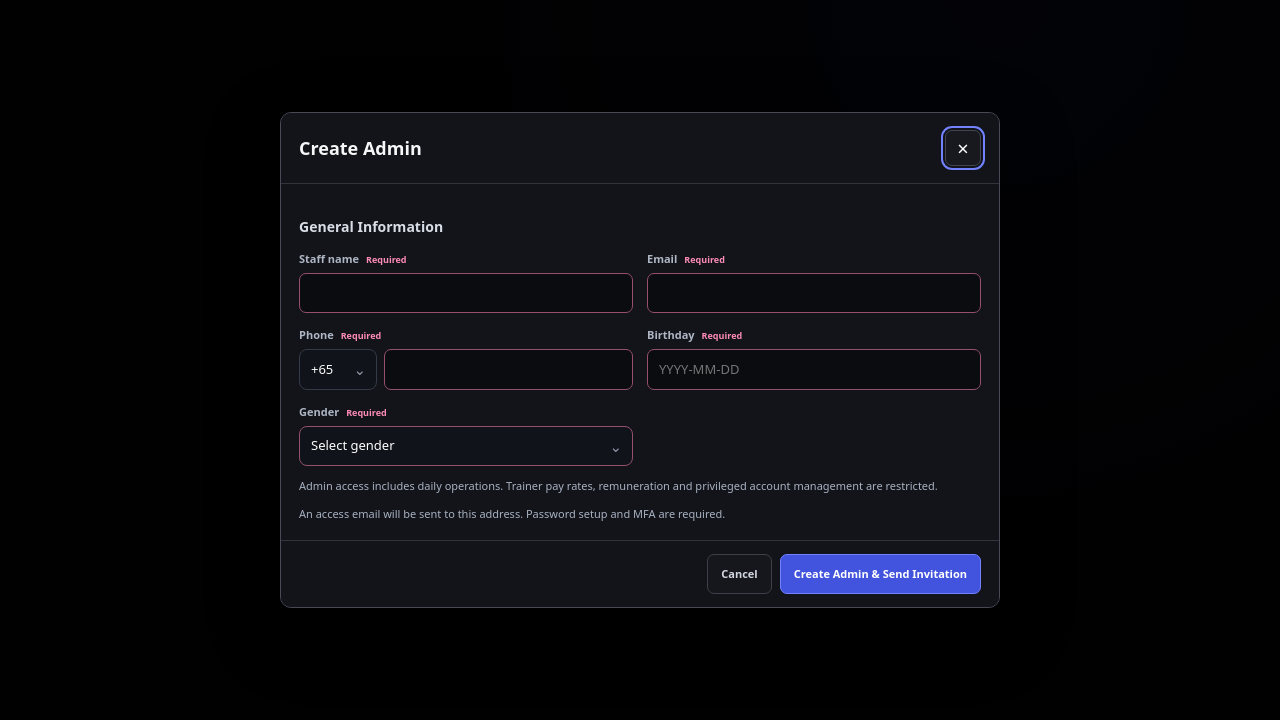
Test case: retains the exact key and frozen details after an interrupted response
Type "New Staff" into the field labelled "Staff name".
click(466, 293); type("New Staff")  # box top-left (299, 273), bottom-right (633, 314)
Type " STAFF@EXAMPLE.TEST " into the field named "Staff email".
click(814, 293); type(" STAFF@EXAMPLE.TEST ")  # box top-left (647, 273), bottom-right (981, 314)
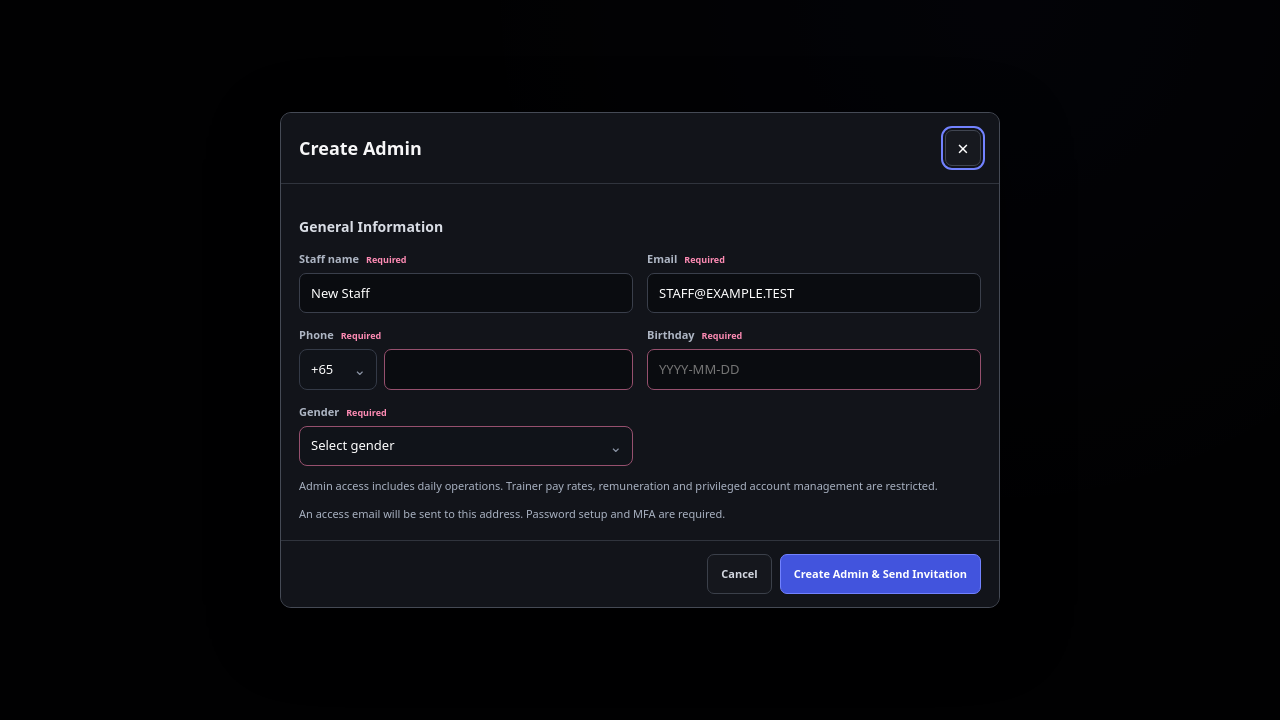
Type "91234567" into the field named "Staff phone number".
click(508, 370); type("91234567")  # box top-left (384, 349), bottom-right (633, 390)
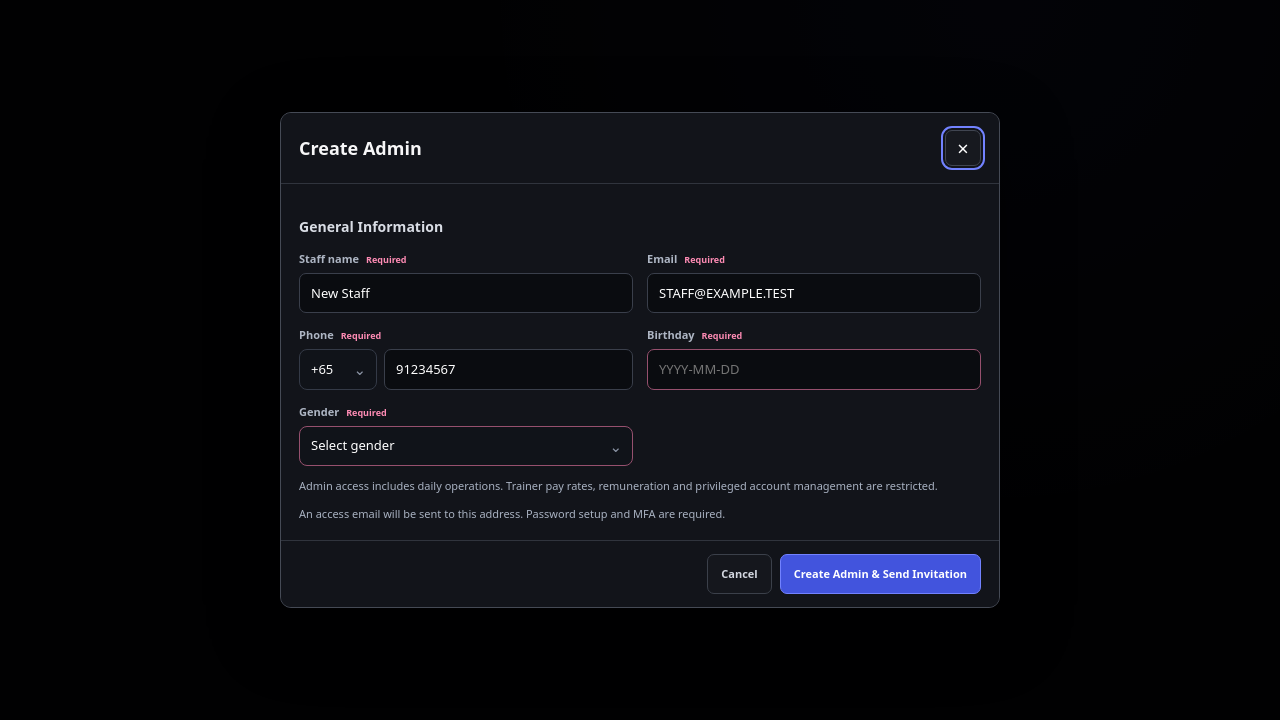
Type "1990-01-02" into the field named "Staff birthday".
click(814, 370); type("1990-01-02")  # box top-left (647, 349), bottom-right (981, 390)
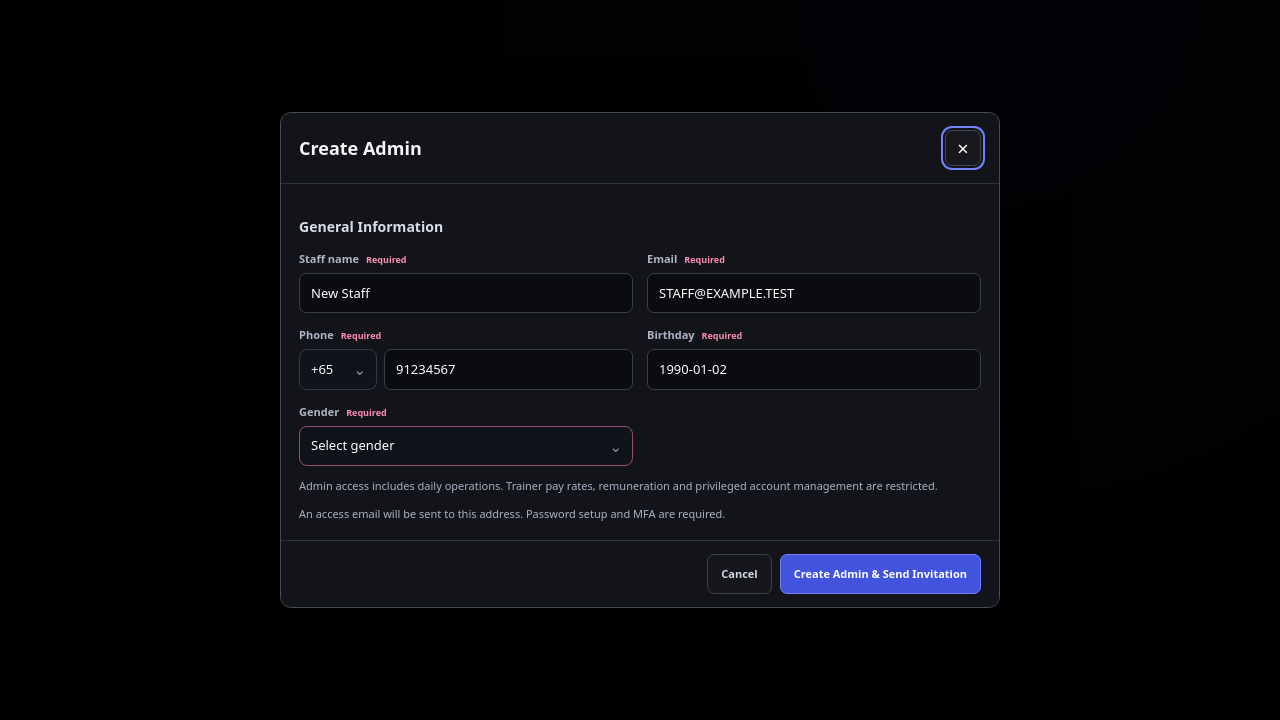
Select "Female" in the dropdown named "Staff gender" at (466, 446), box top-left (299, 426), bottom-right (633, 466)
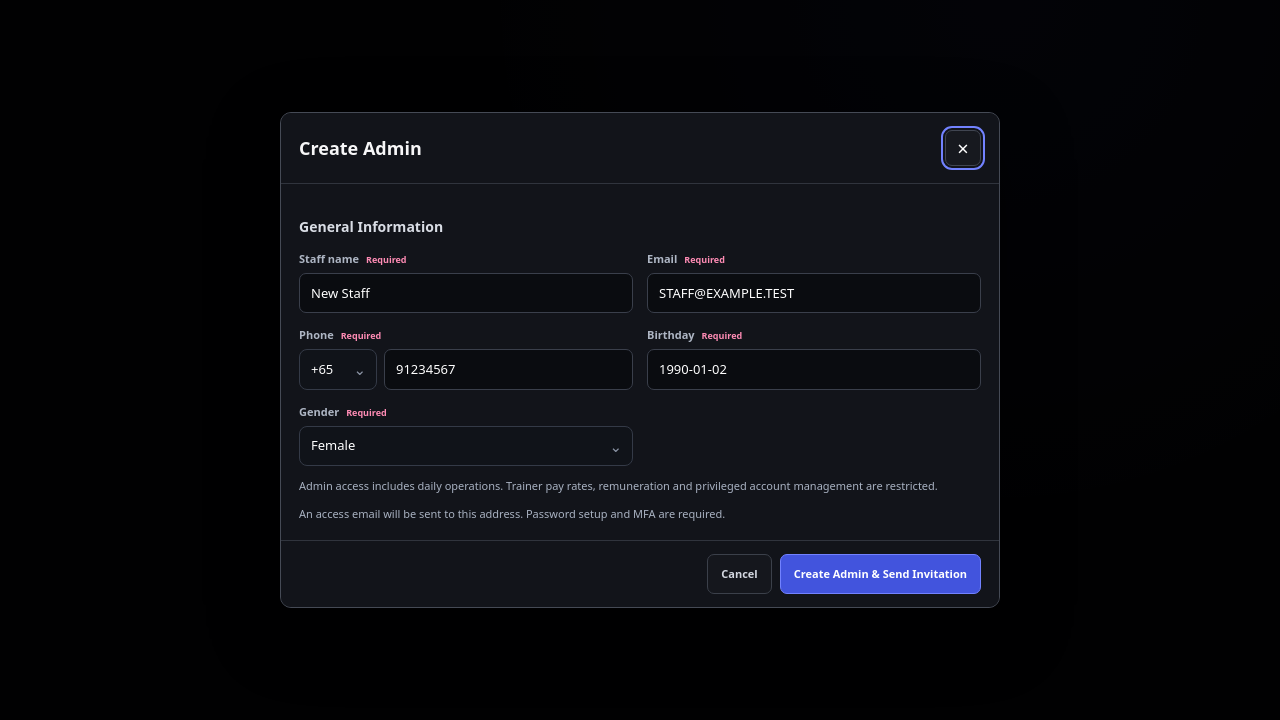
Click the button "Create Admin & Send Invitation".
click(880, 574)  # box top-left (780, 554), bottom-right (981, 594)
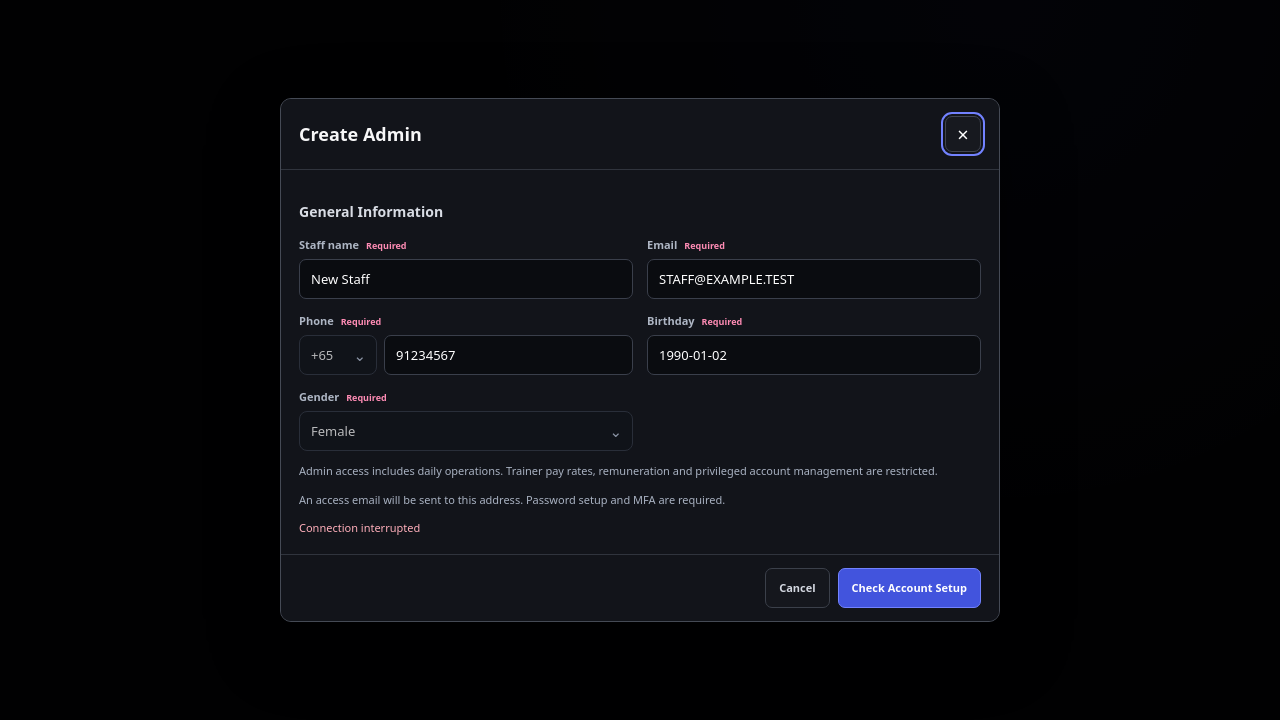
Expected: the field named "Staff email" is disabled, top-left (647, 259), bottom-right (981, 299)
Expected: the text "Connection interrupted" is shown, top-left (299, 520), bottom-right (420, 535)
Click the button "Check Account Setup".
click(909, 588)  # box top-left (838, 568), bottom-right (981, 608)
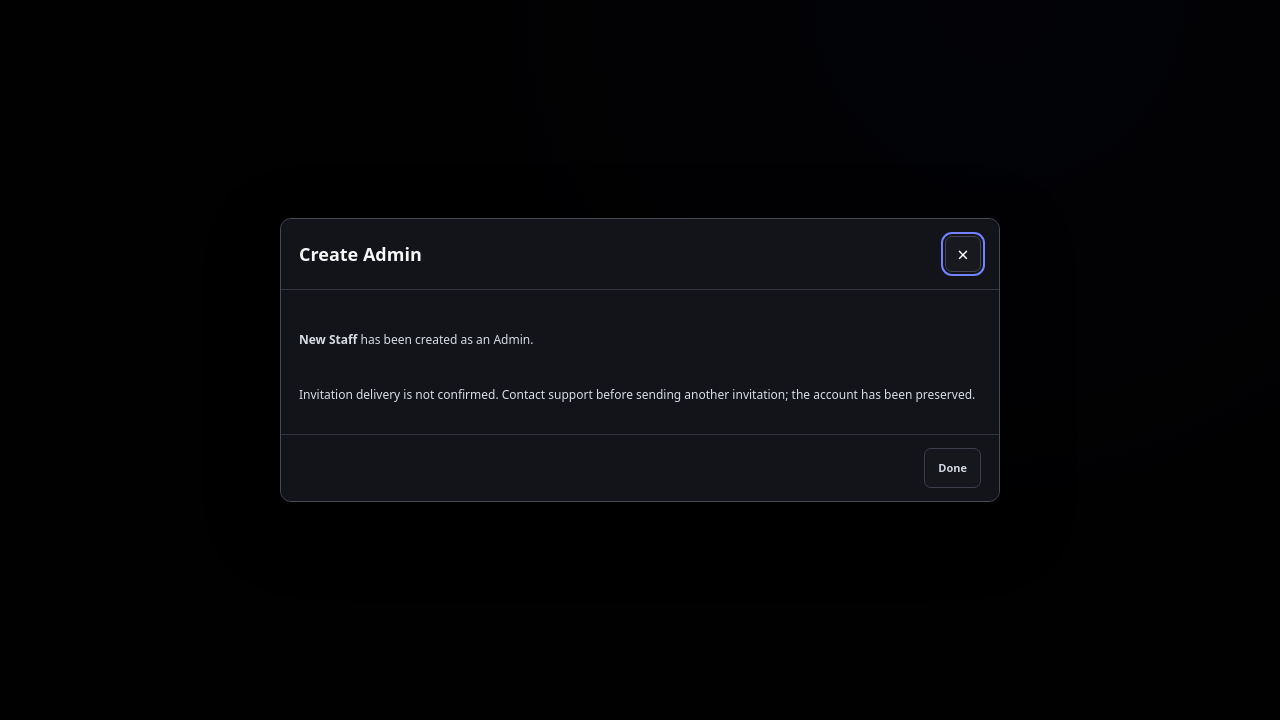
Expected: the text "Invitation delivery is not confirmed" is shown, top-left (299, 386), bottom-right (975, 403)
